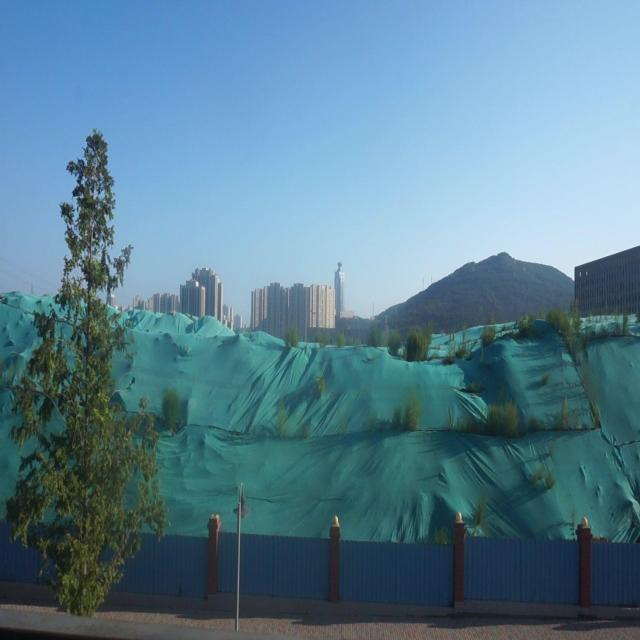UAV: (310, 310, 316, 315)
